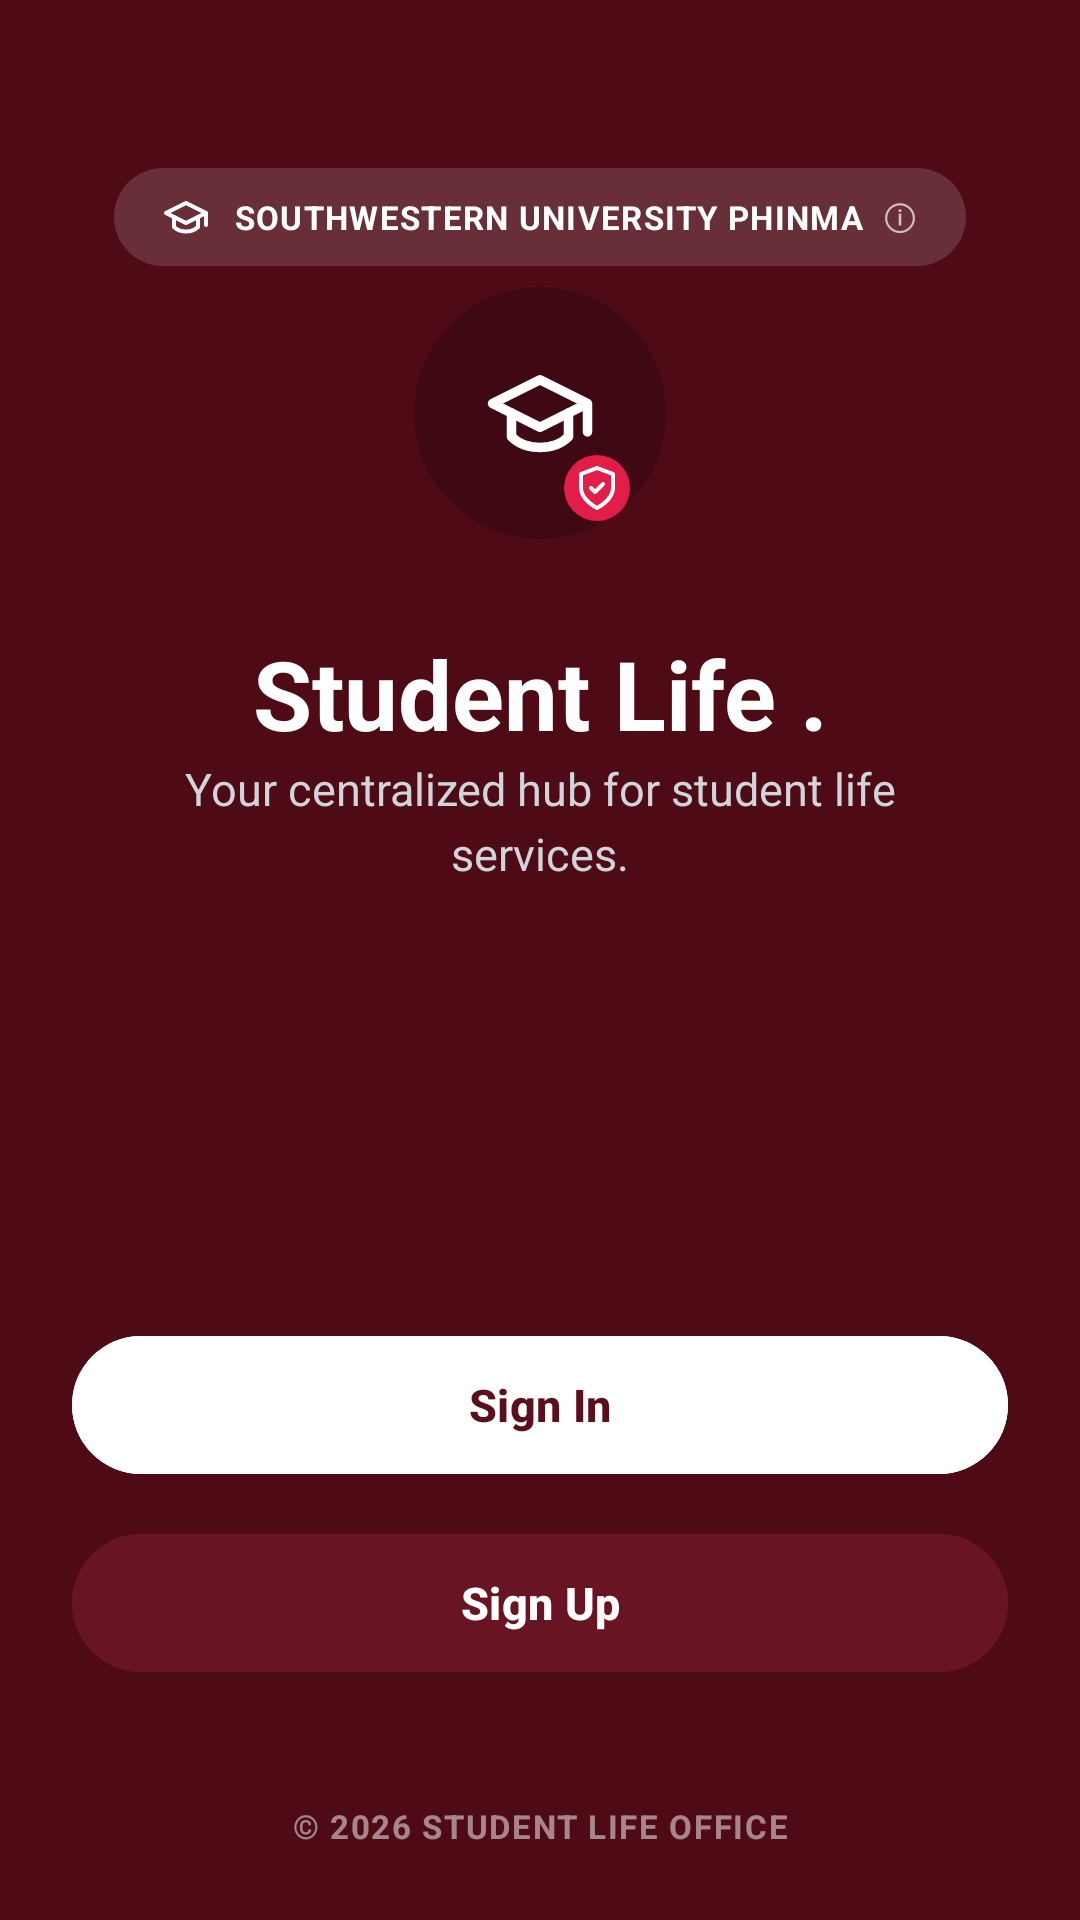

Named icons in this screenshot (1080px x 1920px) and their bounding boxes, box=[x1, y1, x2, y2]:
scholarship: box=[164, 201, 208, 234], box=[487, 375, 593, 453]
shield check: box=[564, 455, 630, 521]
